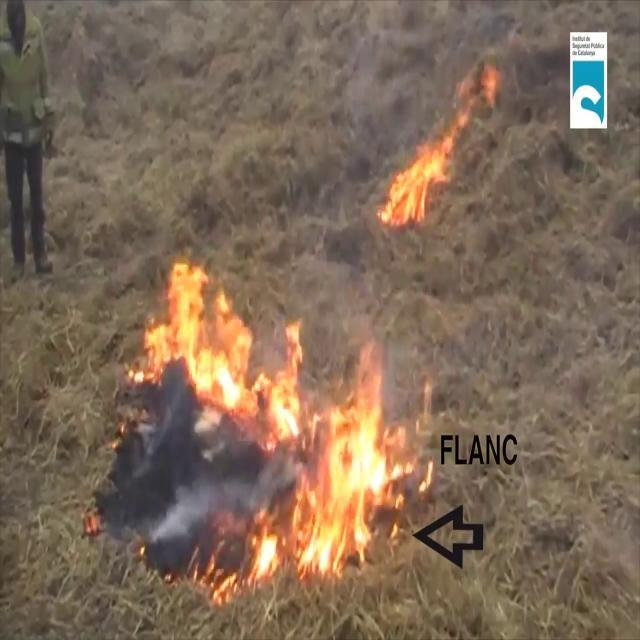Fire: (226, 338, 424, 576), (126, 251, 302, 432), (377, 121, 468, 226)
